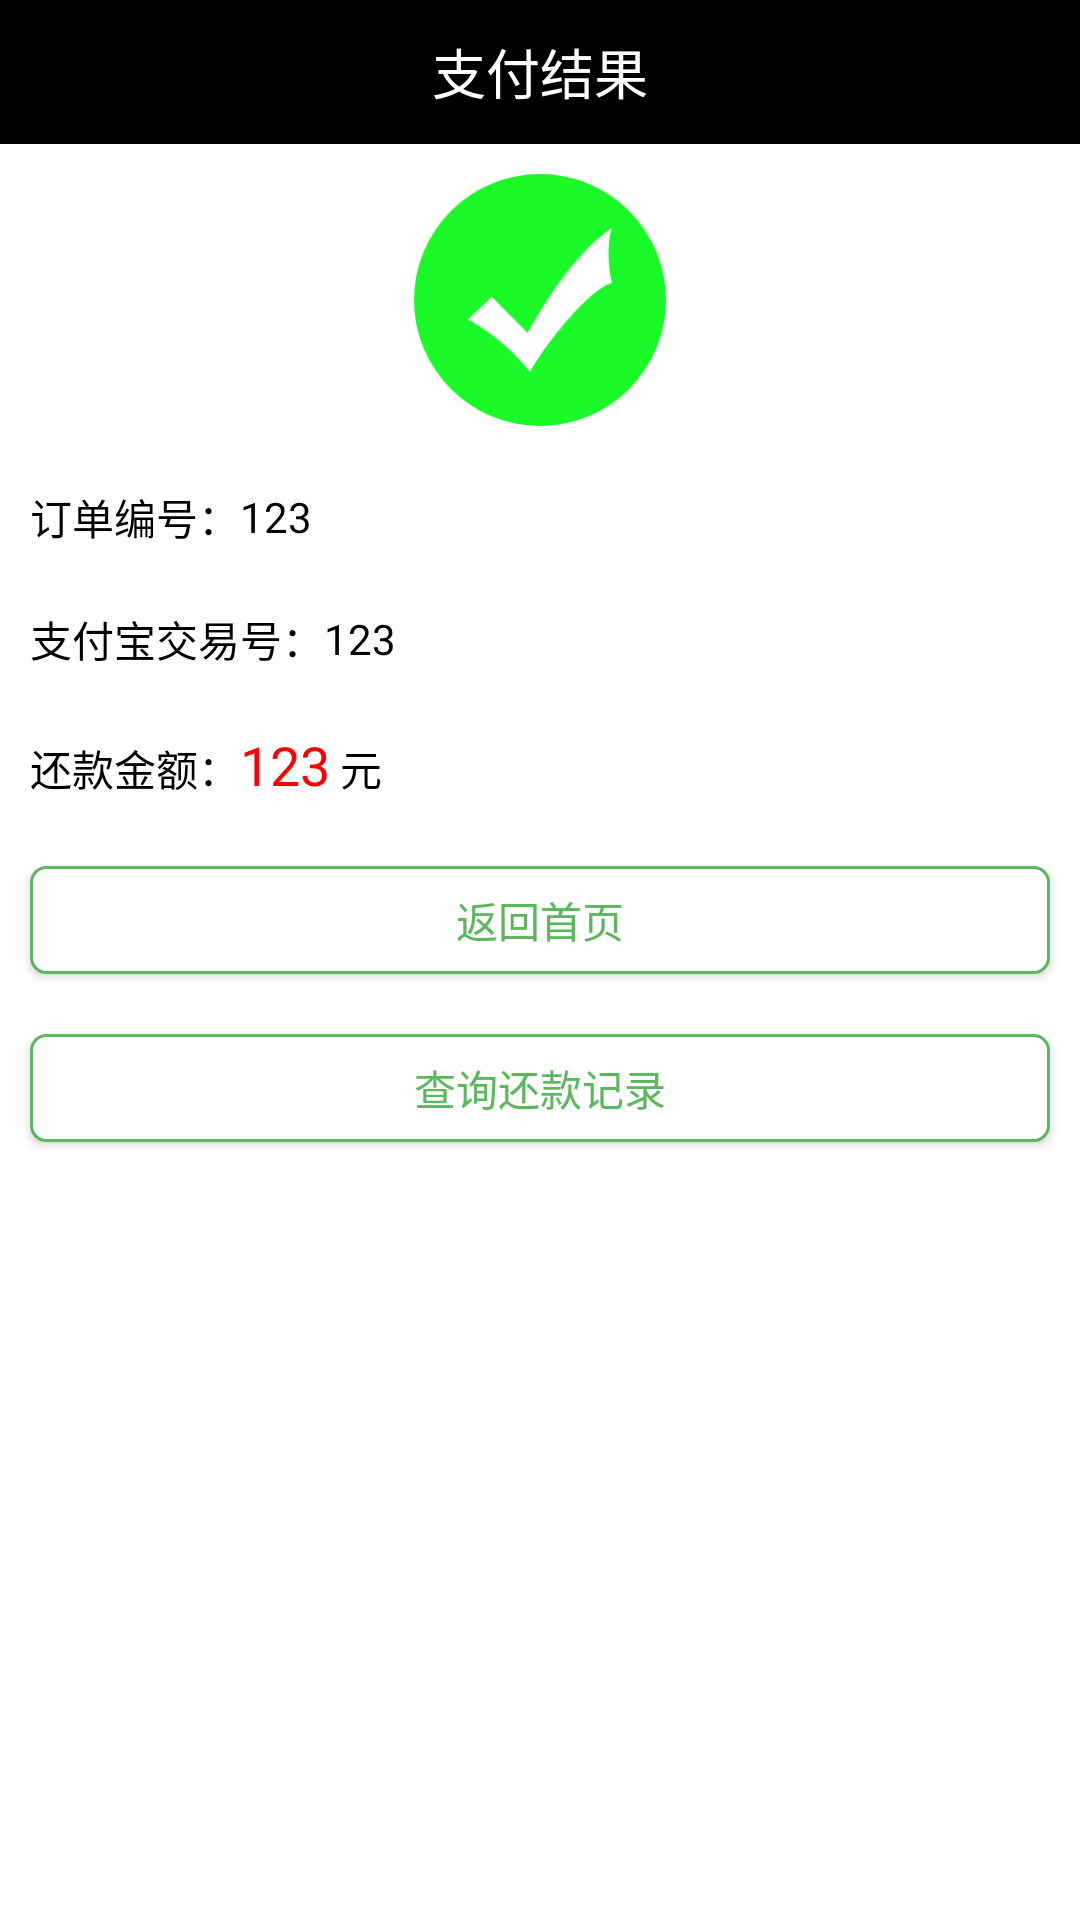

Icon bounding boxes for this 1080 x 1920 phone screenshot, format (x1, y1, x2, y2):
success: (414, 174, 666, 426)
